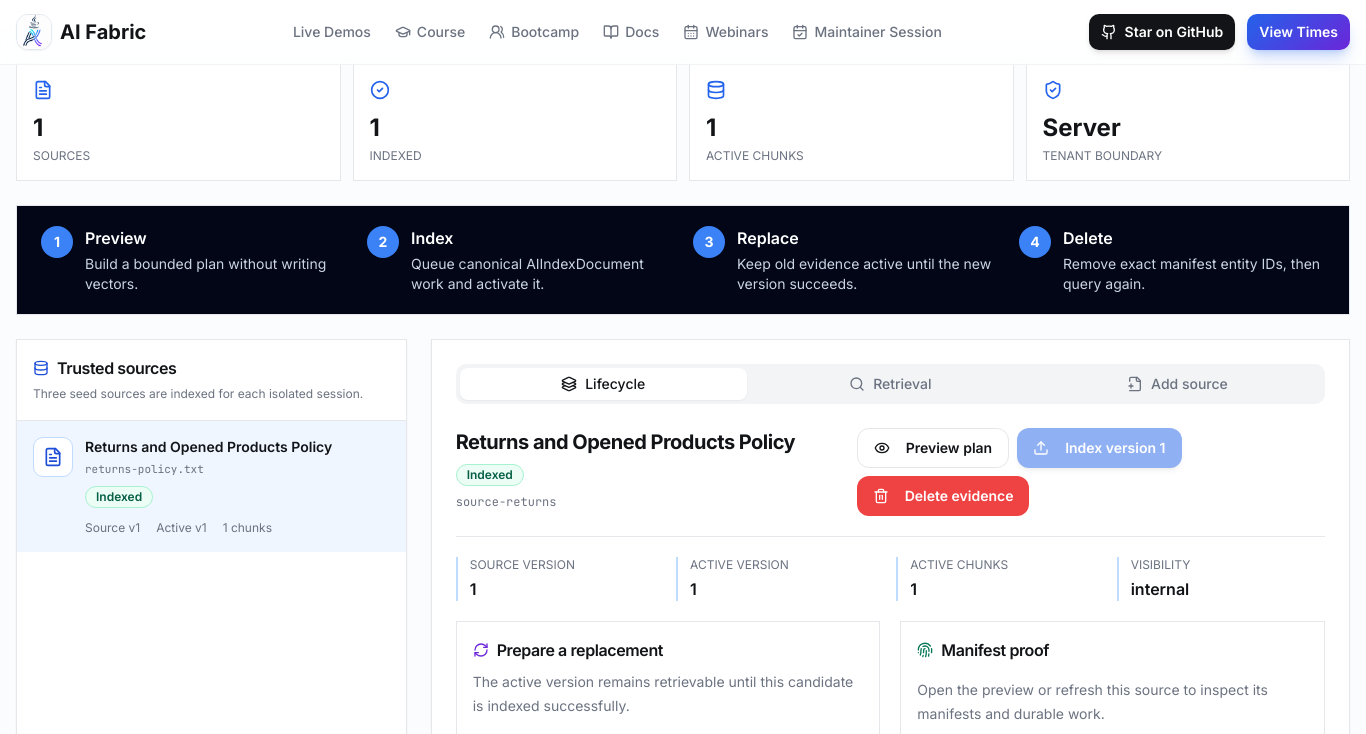
Test: DocumentIntelligenceHub › loads a backend-owned workspace and renders real retrieval evidence
This screenshot has width=1366, height=734.
(page scrolled)
Check: the text "Returns and Opened Products Policy" is shown 2 times, box [85,437,332,457]; [456,428,795,456]
Click the tab "Retrieval". click: {"x": 890, "y": 384}
box: [747,368,1034,400]
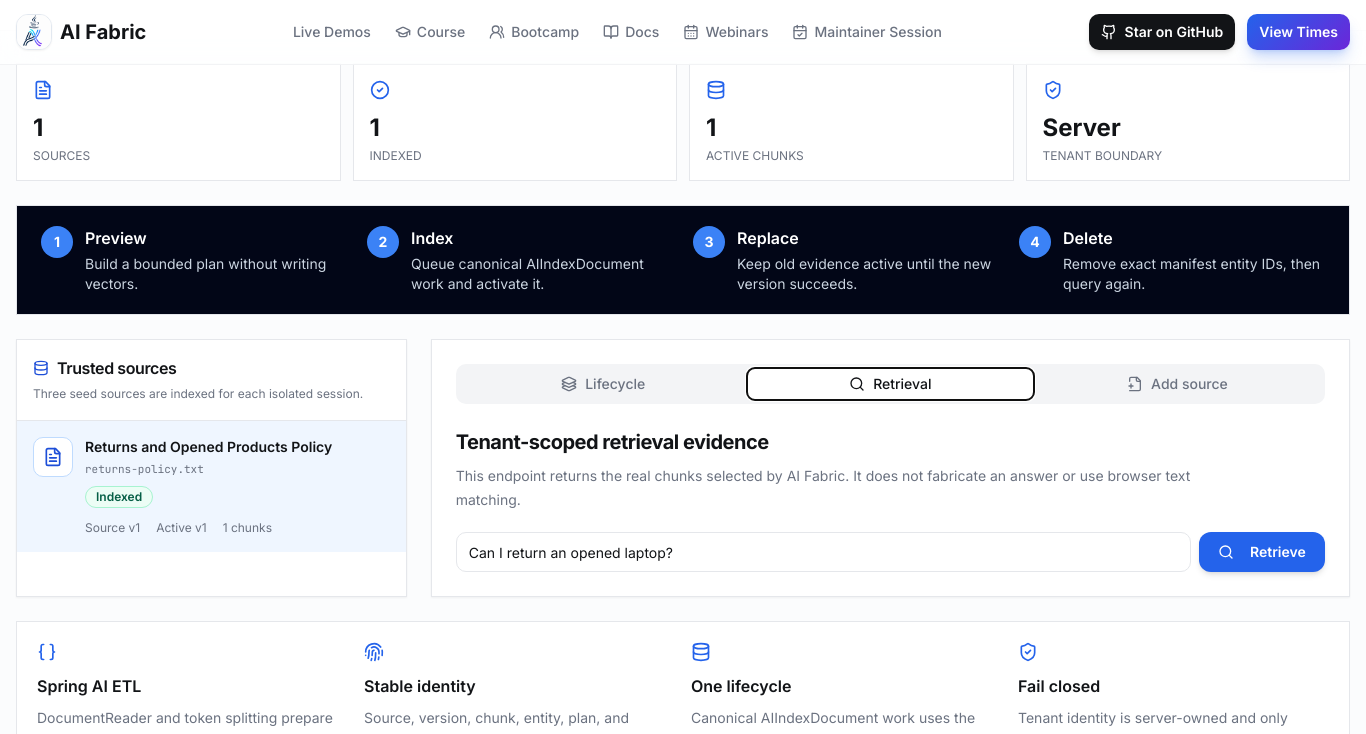
Click the button "Retrieve". click: {"x": 1262, "y": 552}
box: [1199,532,1325,572]
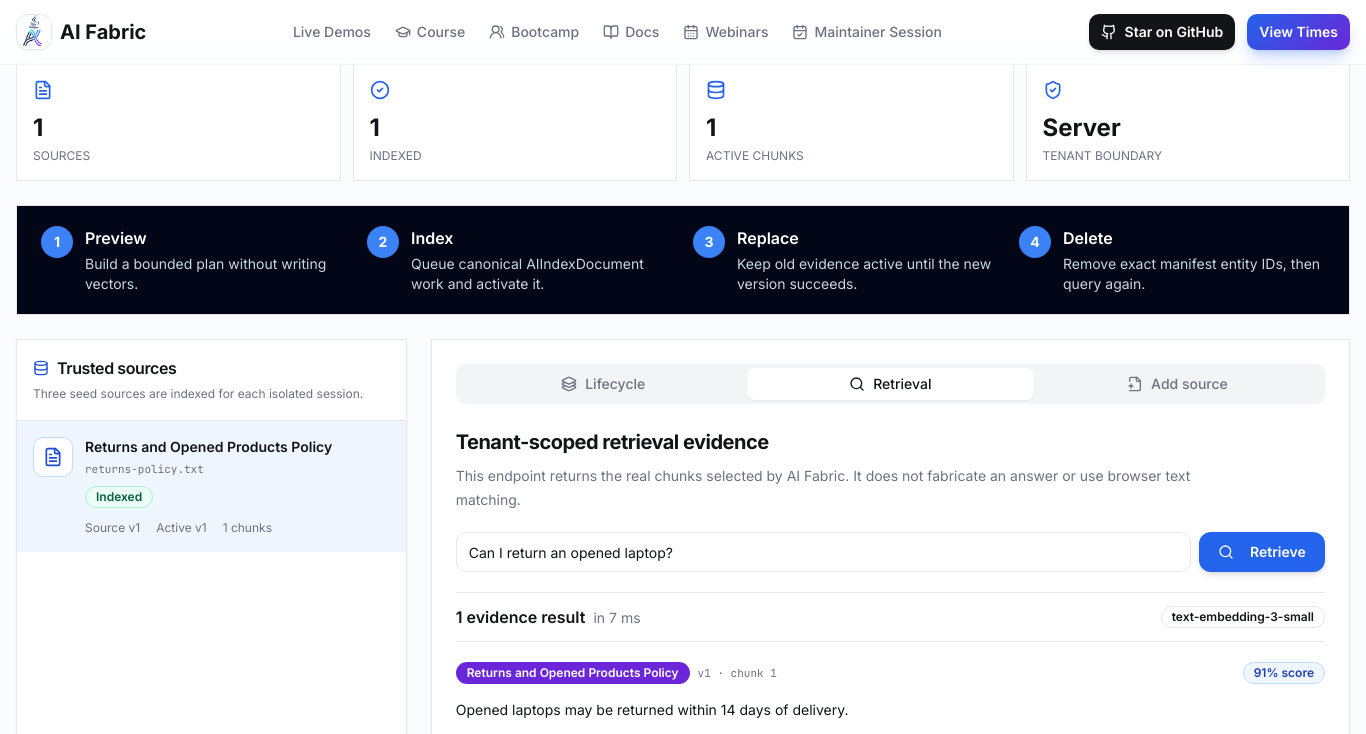
Check: the text "Opened laptops may be returned within 14 days of delivery." is shown, box [456,701,848,718]
Check: the text "91% score" is shown, box [1243,662,1325,684]
